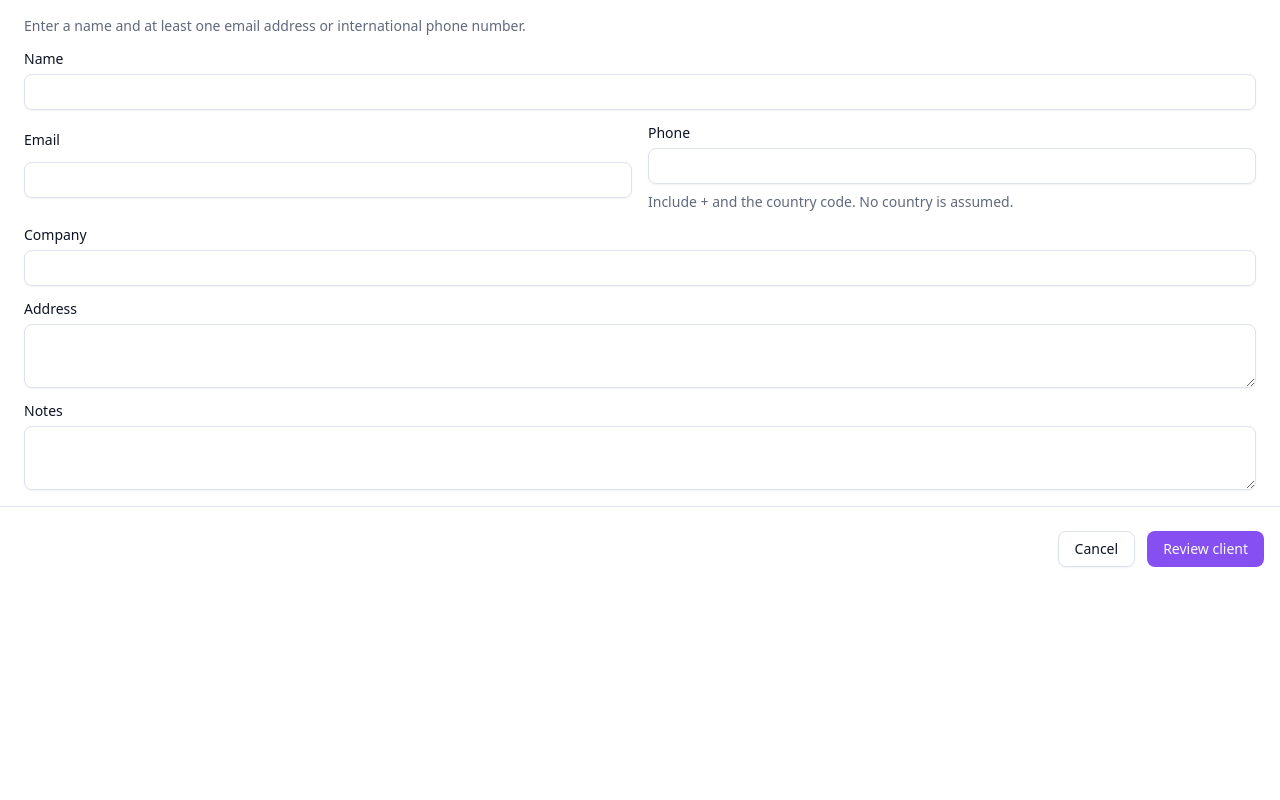
Scenario: confirmed client creation › allows correcting the form after a known stale plan rejection
This screenshot has width=1280, height=800.
Type " Ana Perez " into the field labelled "Name" at coordinates (640, 92), box [24,74,1256,110]
Type "ANA@EXAMPLE.COM" into the field labelled "Email" at coordinates (328, 180), box [24,162,632,198]
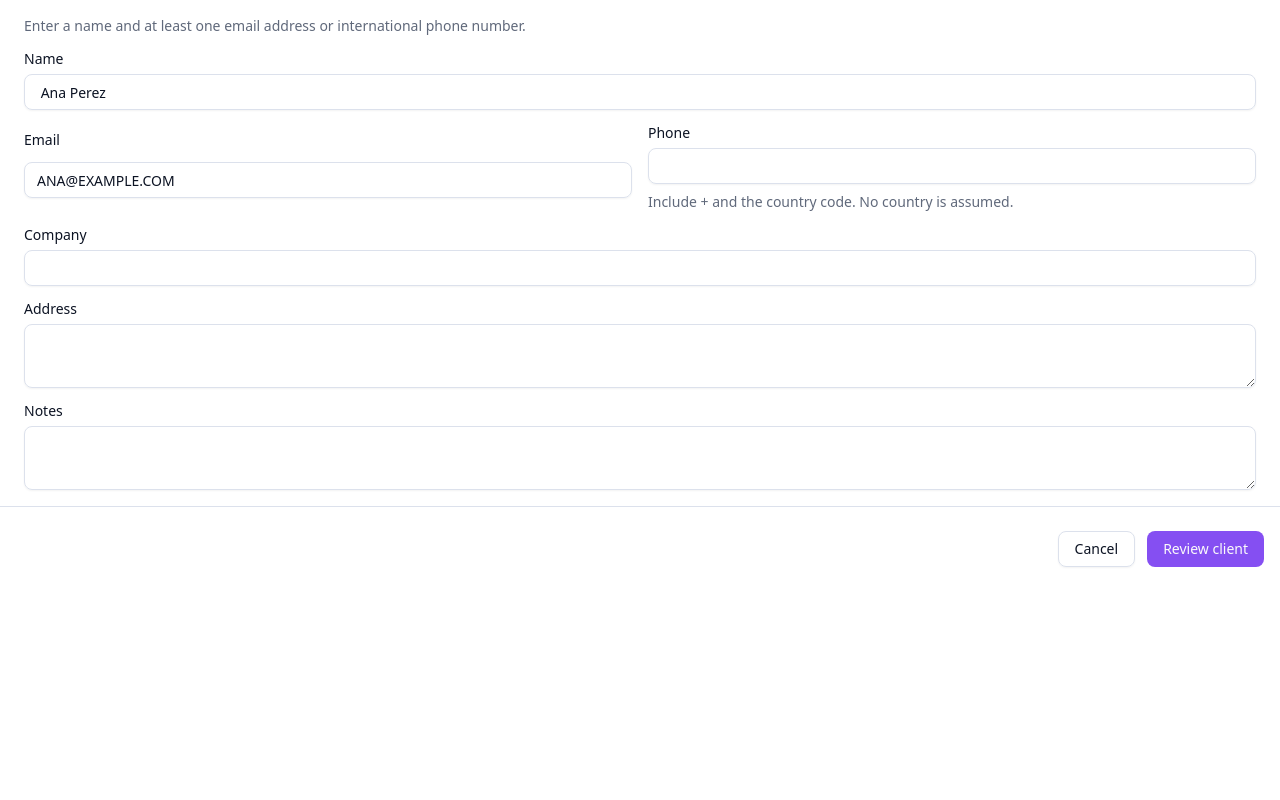
Type "+53 5123 4567" into the field labelled "Phone" at coordinates (952, 166), box [648,148,1256,184]
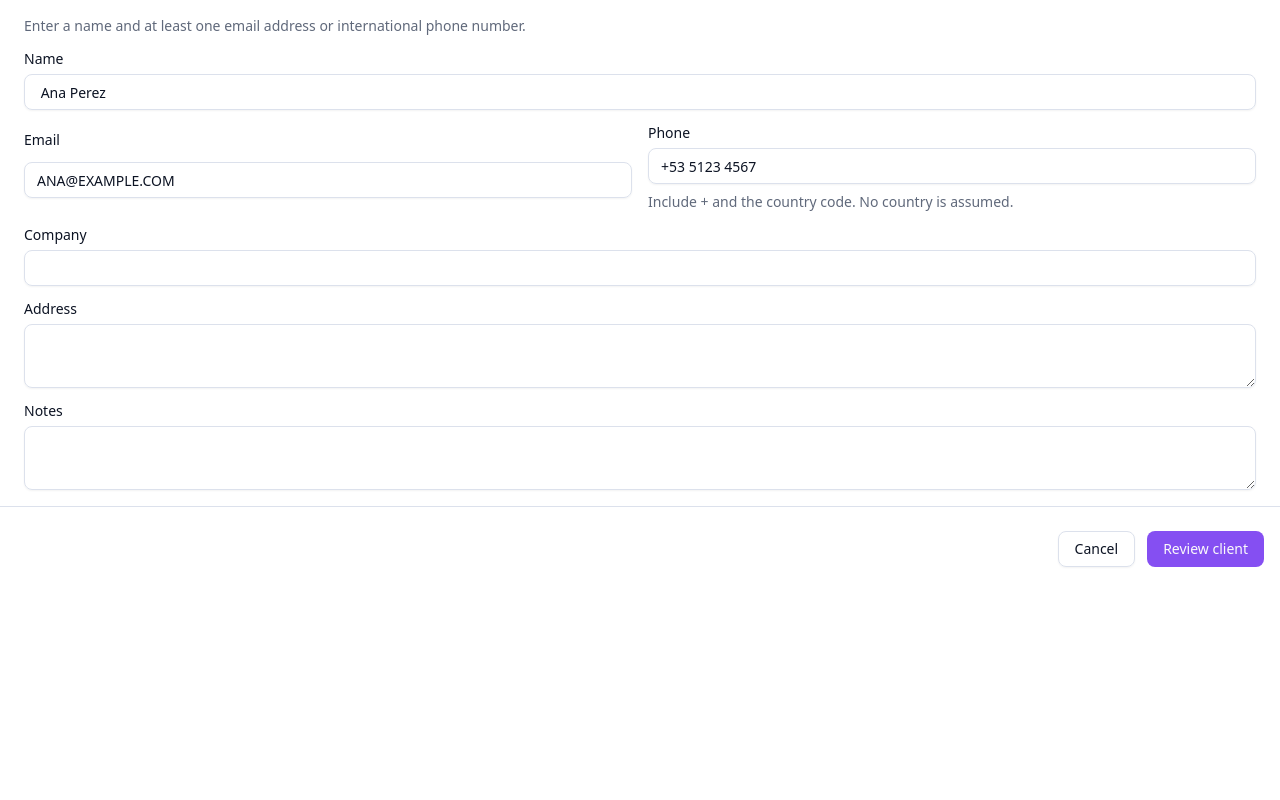
Type " Demo " into the field labelled "Company" at coordinates (640, 268), box [24,250,1256,286]
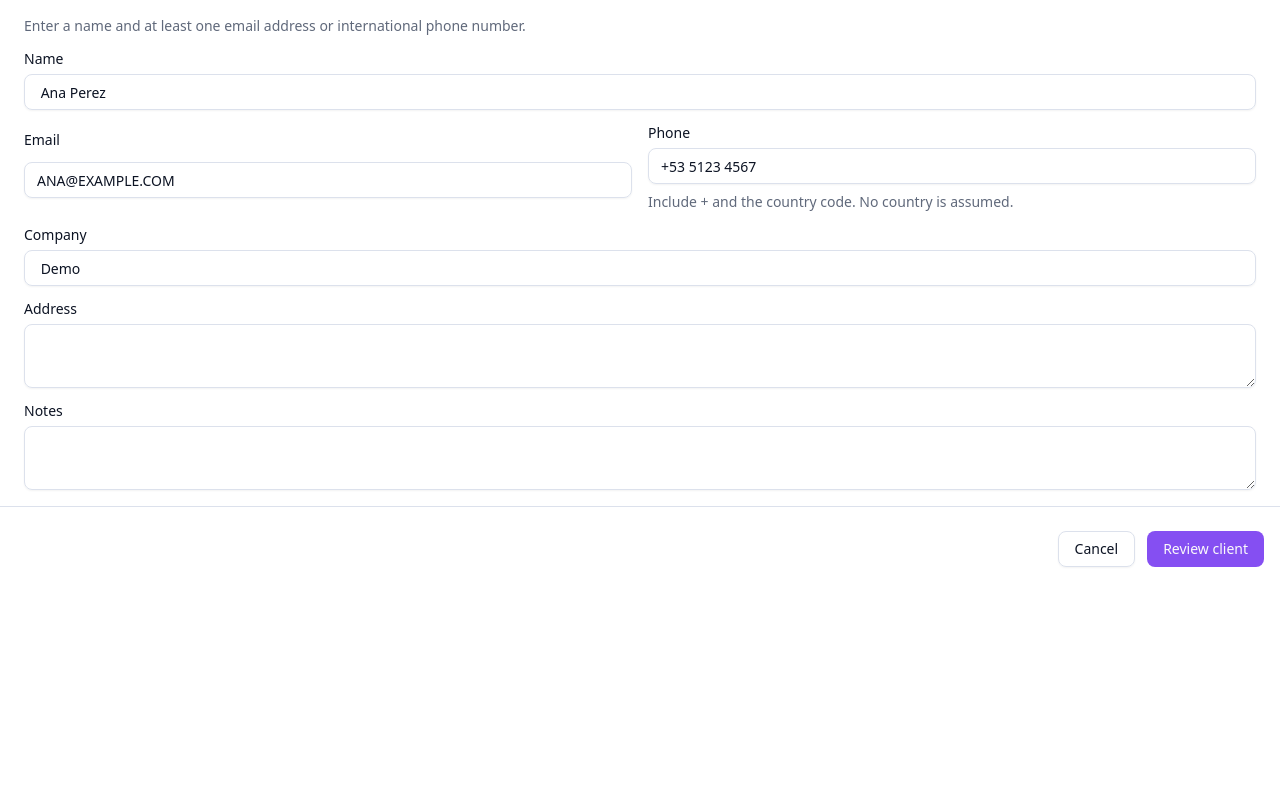
Click the button "Review client" at coordinates (1206, 549), box [1147,531,1264,567]
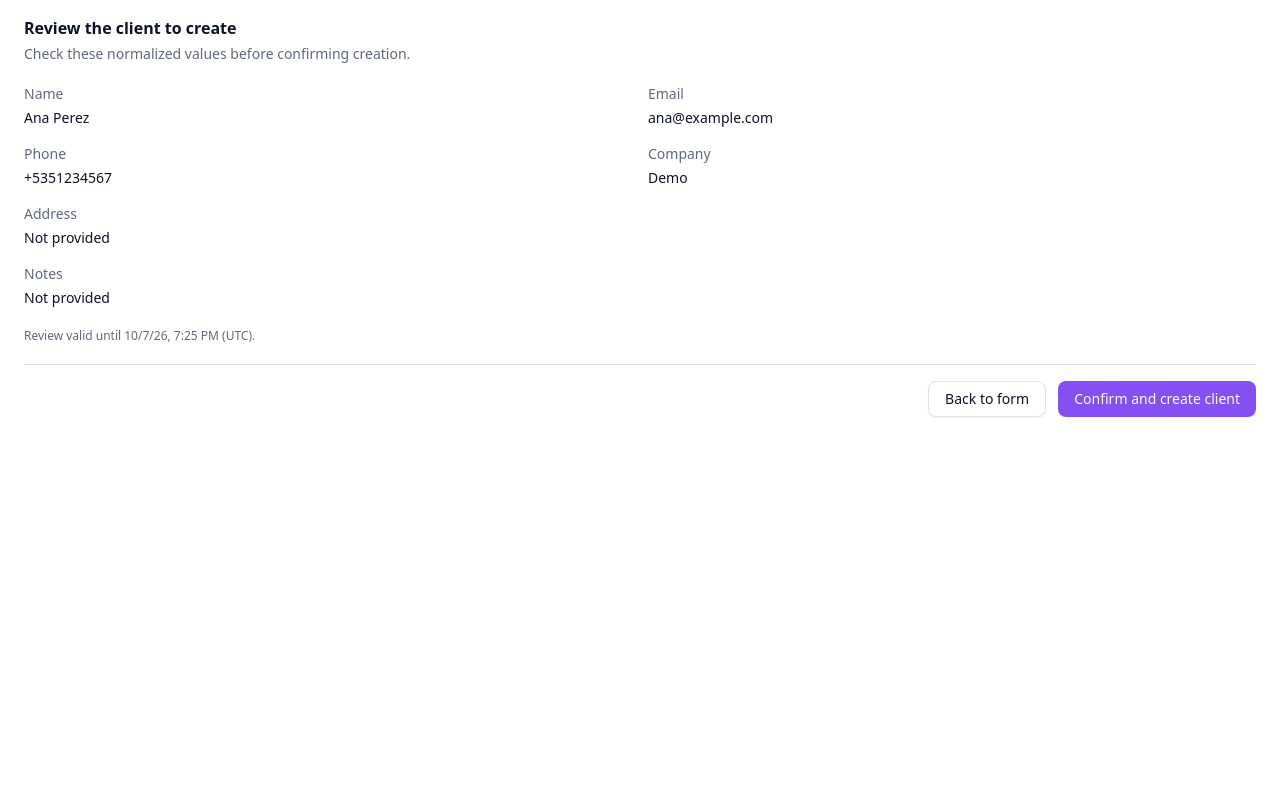
Check: the element "Review the client to create" is shown, box [0,0,1279,433]
Click the button "Confirm and create client" at coordinates (1157, 399), box [1058,381,1256,417]
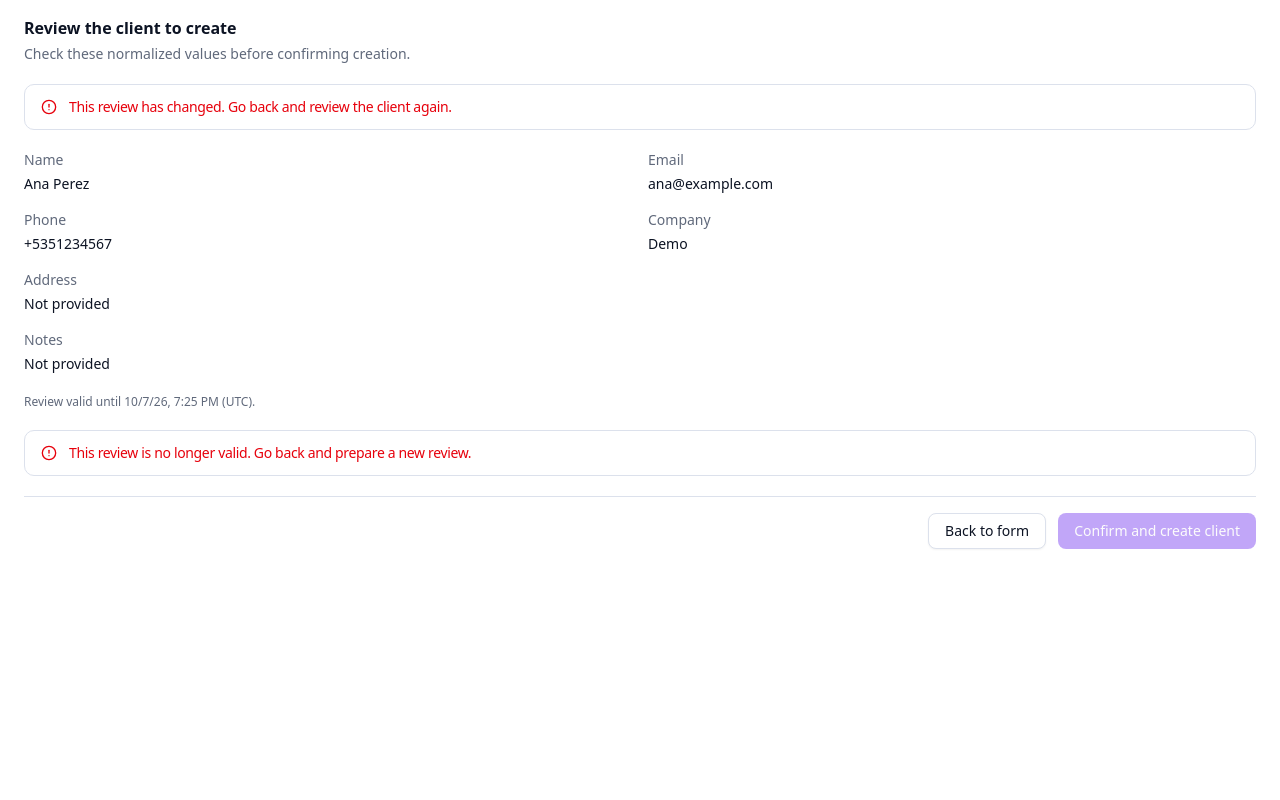
Check: the text "This review has changed. Go back and review the client again." is shown, box [69,97,452,116]
Check: the button "Confirm and create client" is disabled, box [1058,513,1256,549]
Click the button "Back to form" at coordinates (987, 531), box [928,513,1046,549]
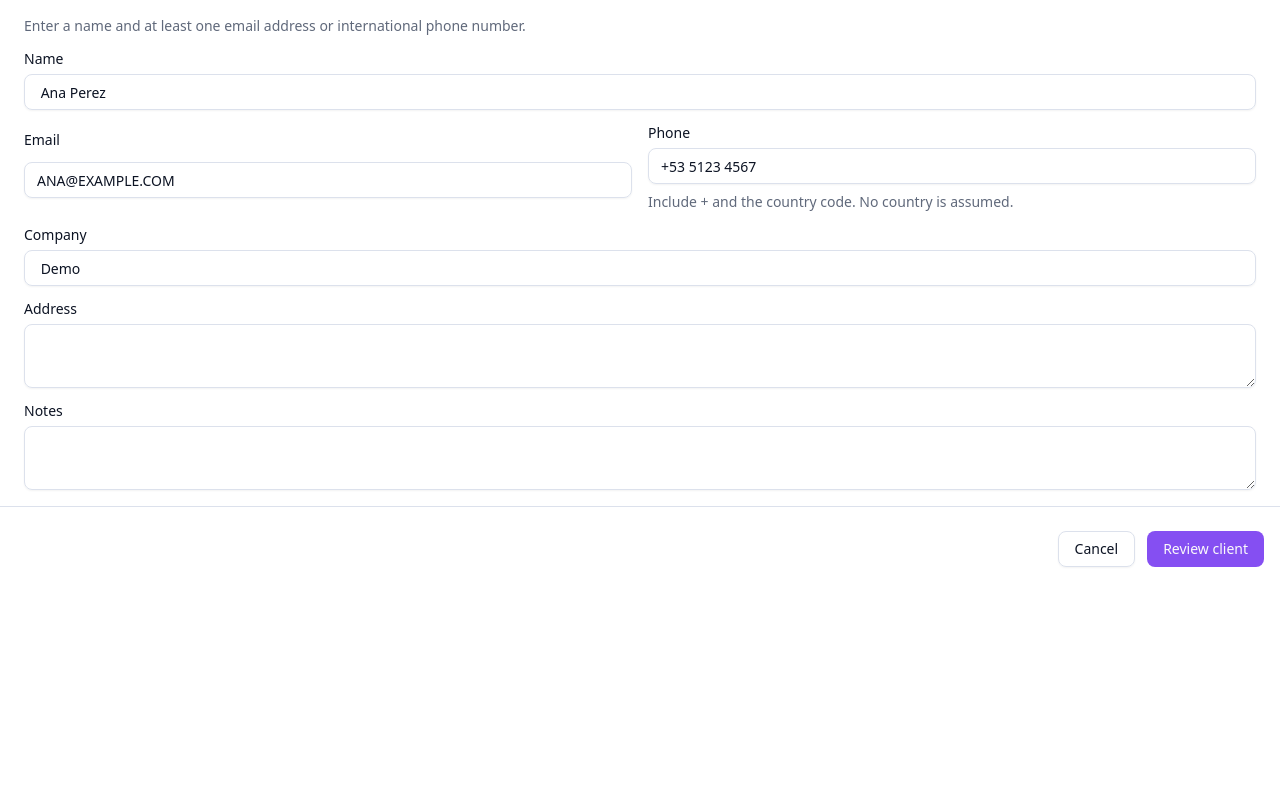
Check: the field labelled "Email" is shown, box [24,162,632,198]
